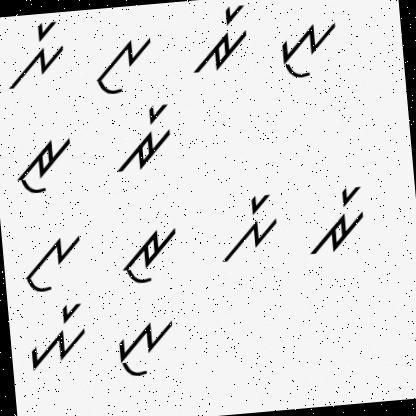lar: (209, 186, 288, 267), (0, 17, 71, 93)
law: (86, 26, 158, 102), (14, 228, 91, 295)
rar: (295, 180, 377, 260), (110, 99, 183, 181), (181, 0, 254, 81)
raw: (5, 126, 78, 198), (118, 220, 183, 288)
yar: (23, 300, 91, 378)
yaw: (269, 14, 351, 86), (108, 307, 182, 385)
